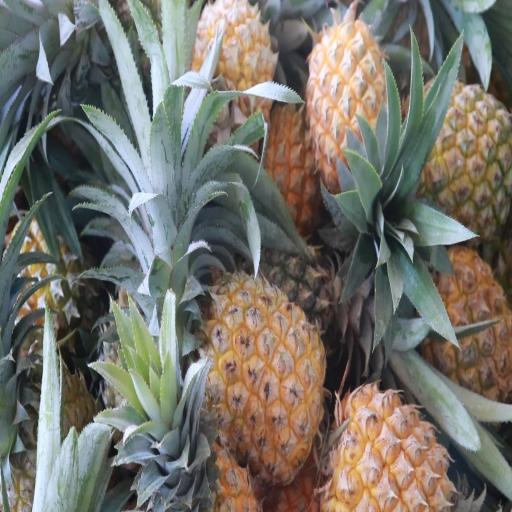Pineapple - v8 v1: (206, 266, 326, 480), (322, 382, 454, 512), (308, 22, 398, 194), (419, 82, 512, 242), (419, 250, 512, 404), (154, 387, 260, 512), (192, 2, 273, 140)
